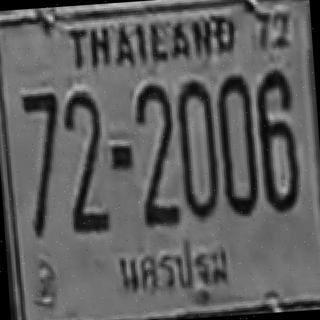N07: (19, 91, 61, 170)
P28: (108, 228, 237, 309)
